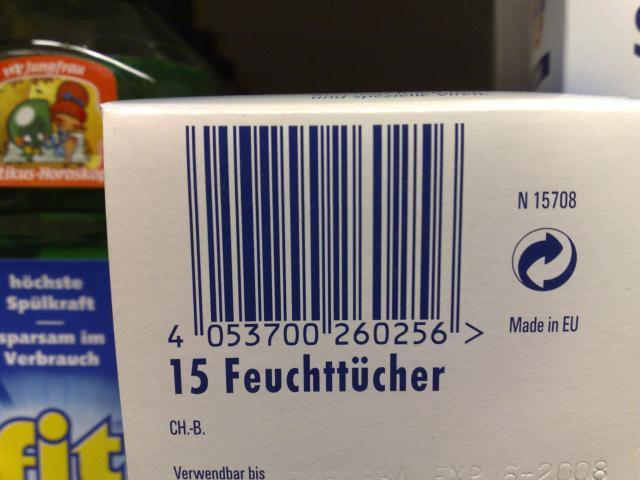Barcode: (156, 112, 494, 353)
